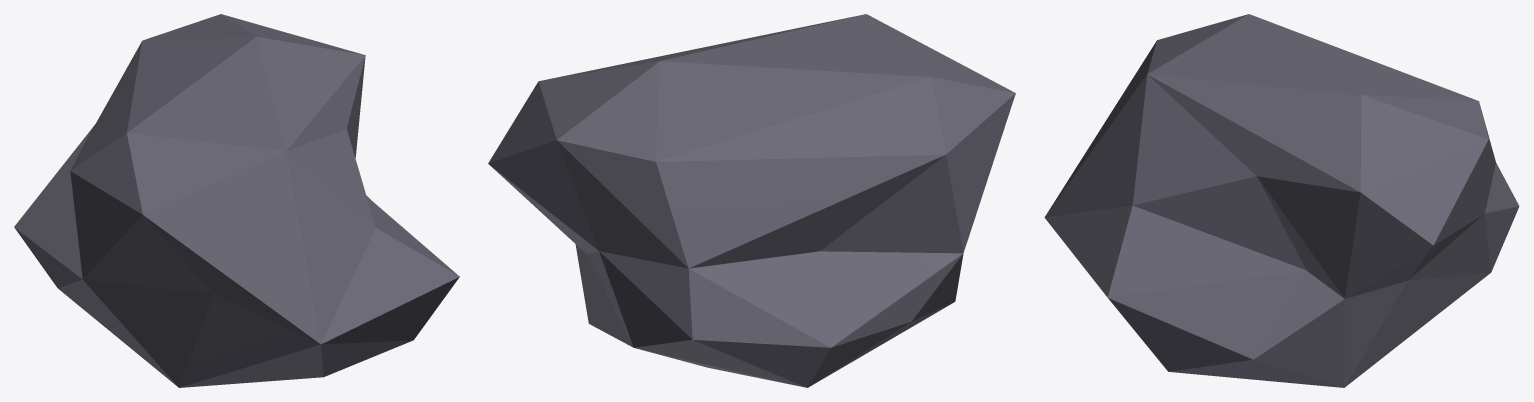
File: bigrock2.fbx
3 renders of one model, left to right at view 1: azimuth 30°, elevation 25°; view 2: azimuth 150°, elevation 25°; view 3: azimuth 270°, elevation 25°, orthographic. The views are drawn at different scales.
Visible parts, largest first — view 1: rock.006; view 2: rock.006; view 3: rock.006.
Part boxes in pixels (left/top/right/bottom): rock.006: left=14, top=14, right=459, bottom=387; rock.006: left=488, top=14, right=1015, bottom=387; rock.006: left=1044, top=14, right=1519, bottom=387.
Bounding box in the file's own units: 180 × 149 × 218.
